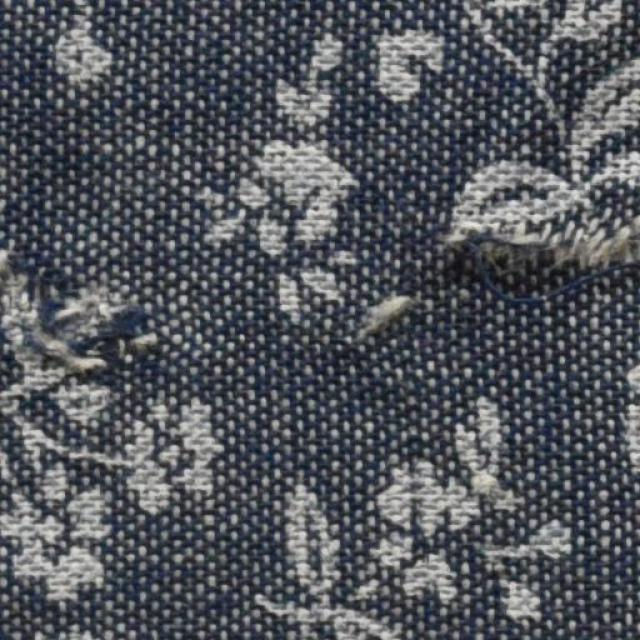Snag: (4, 244, 176, 392), (440, 215, 639, 302)
